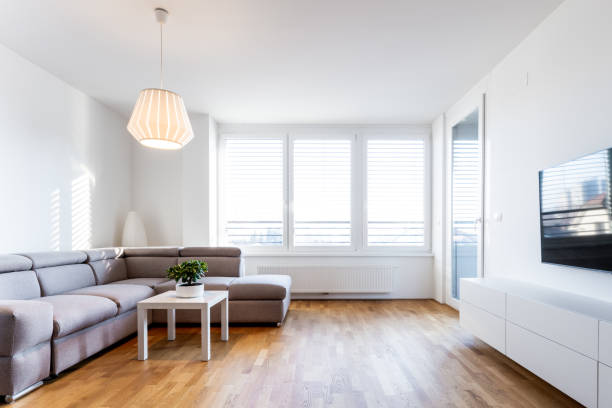TV: (536, 145, 612, 272)
TV stand: (455, 273, 612, 408)
small plant: (164, 258, 208, 300)
sofa: (0, 243, 296, 404)
table: (135, 287, 233, 366)
